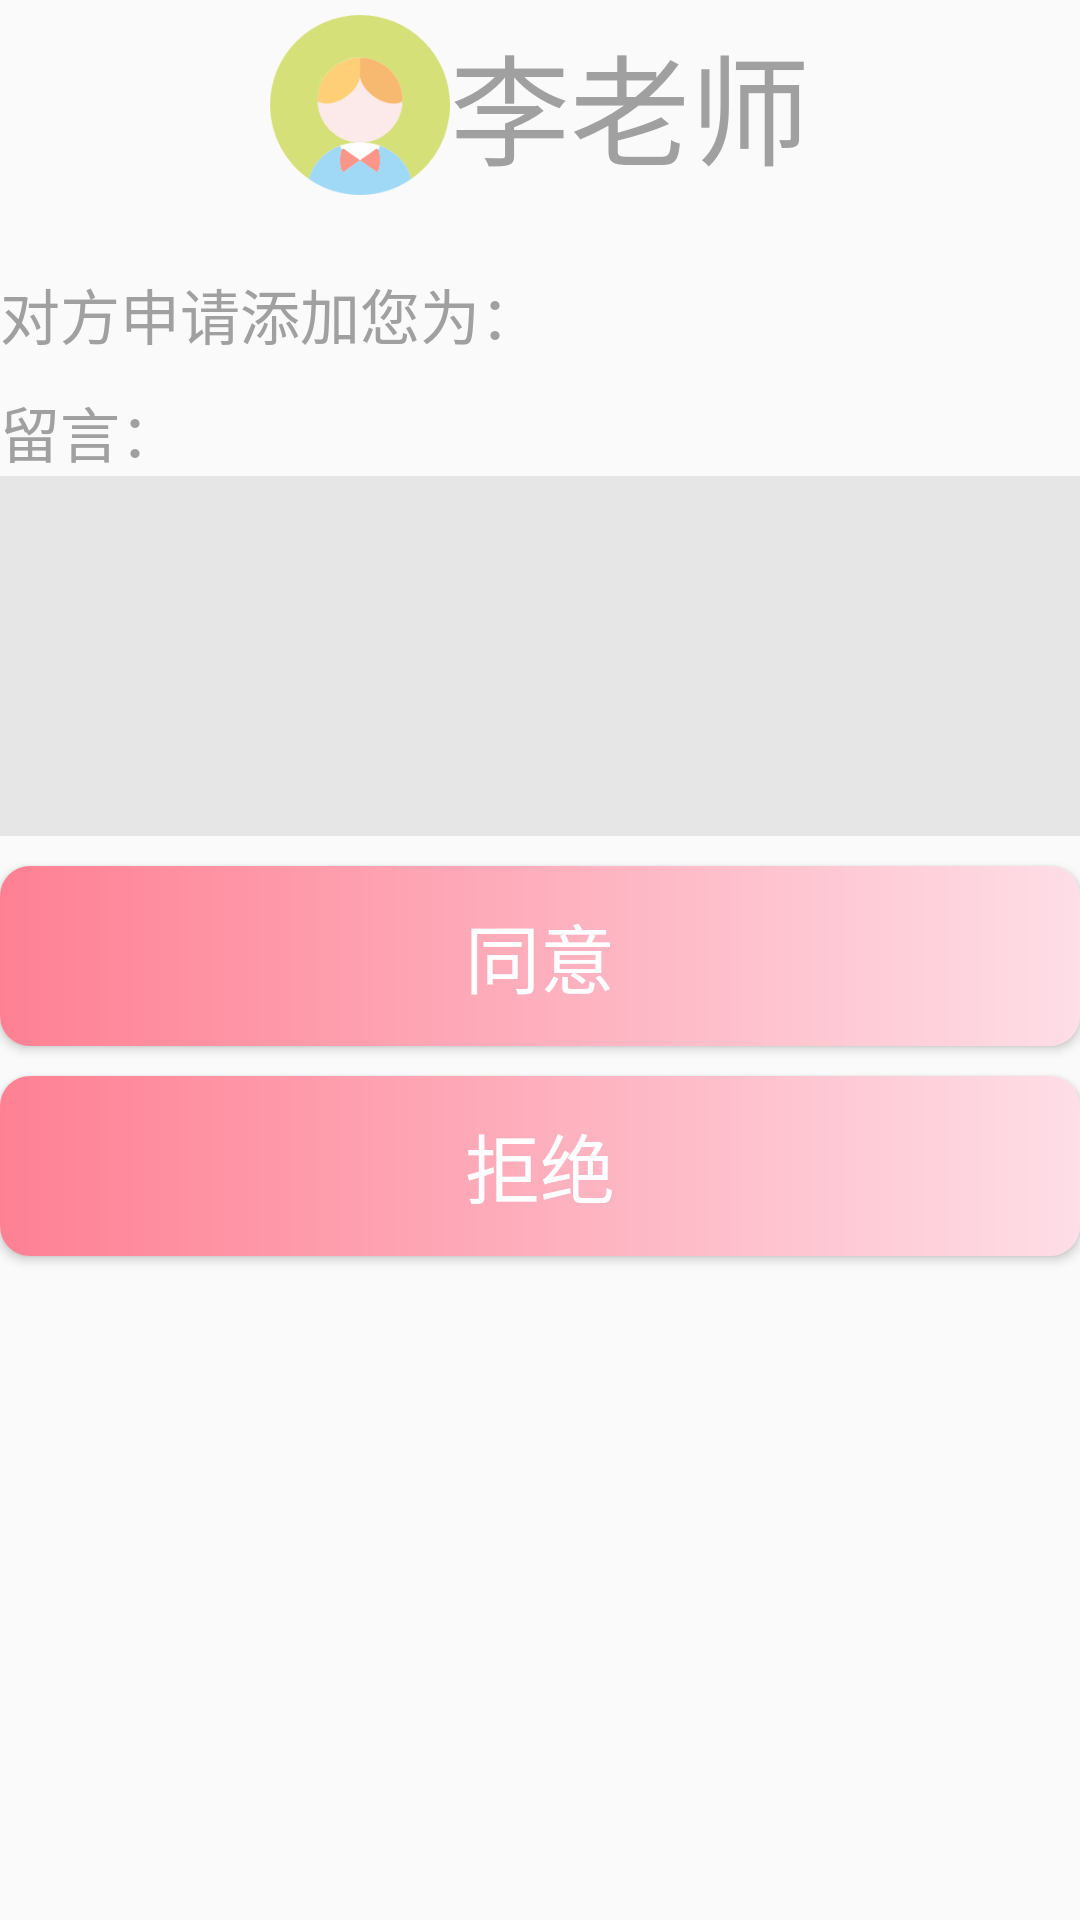

Locate icon controls on the screen. Image size 1080w x 1920h, boxes as (x1, y1, x2, y2).
head: (270, 15, 450, 195)
